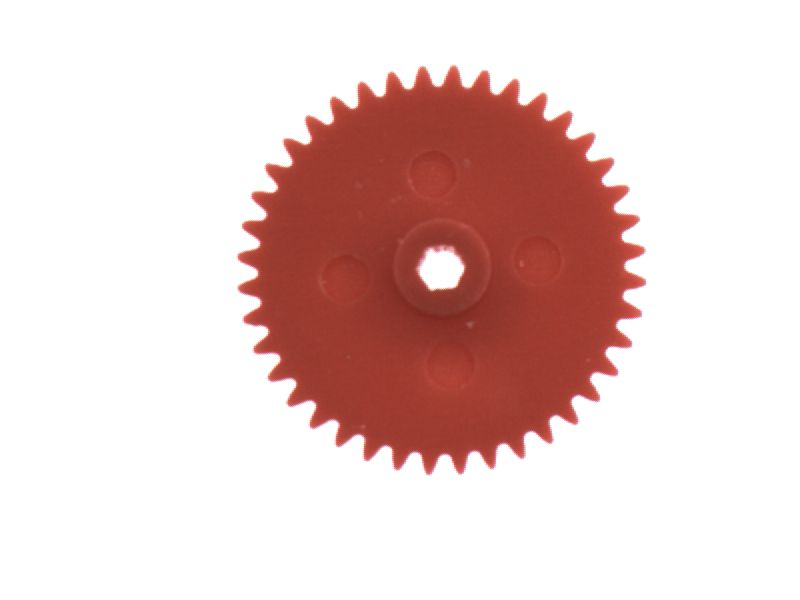good_product: (221, 59, 661, 487)
